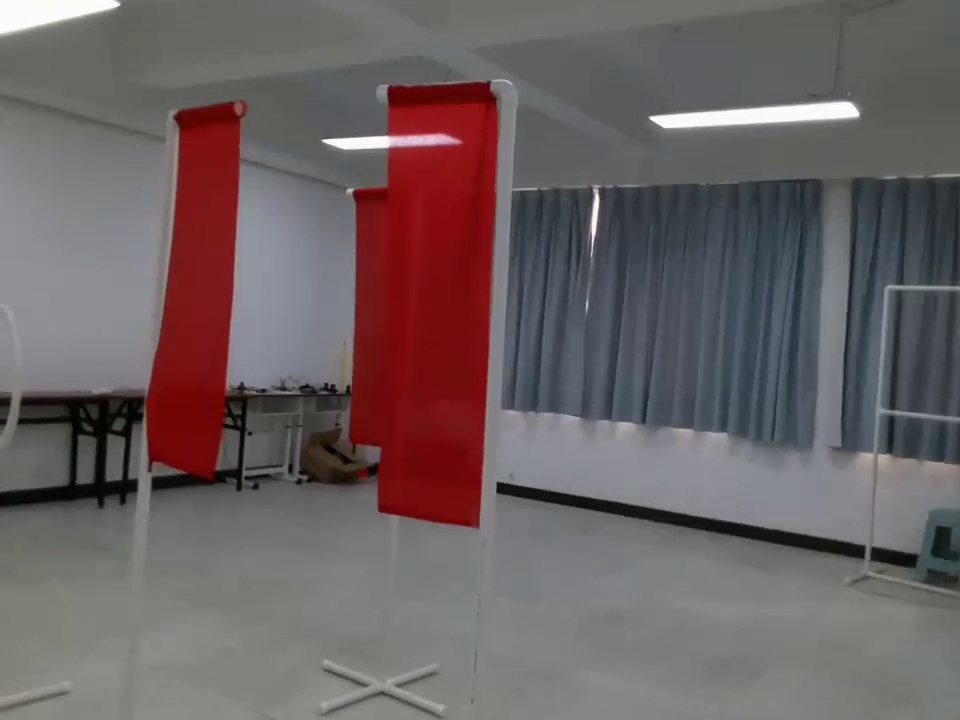qi: (365, 76, 519, 560), (125, 94, 255, 506)
